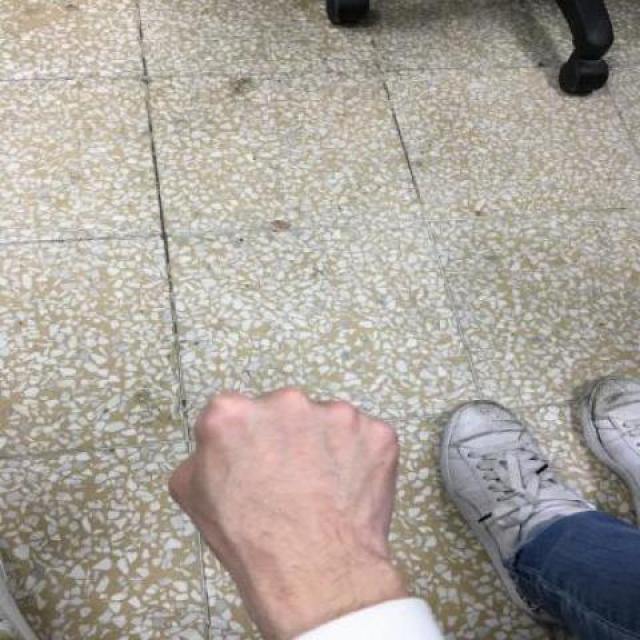Closed Hand: (150, 387, 426, 630)
